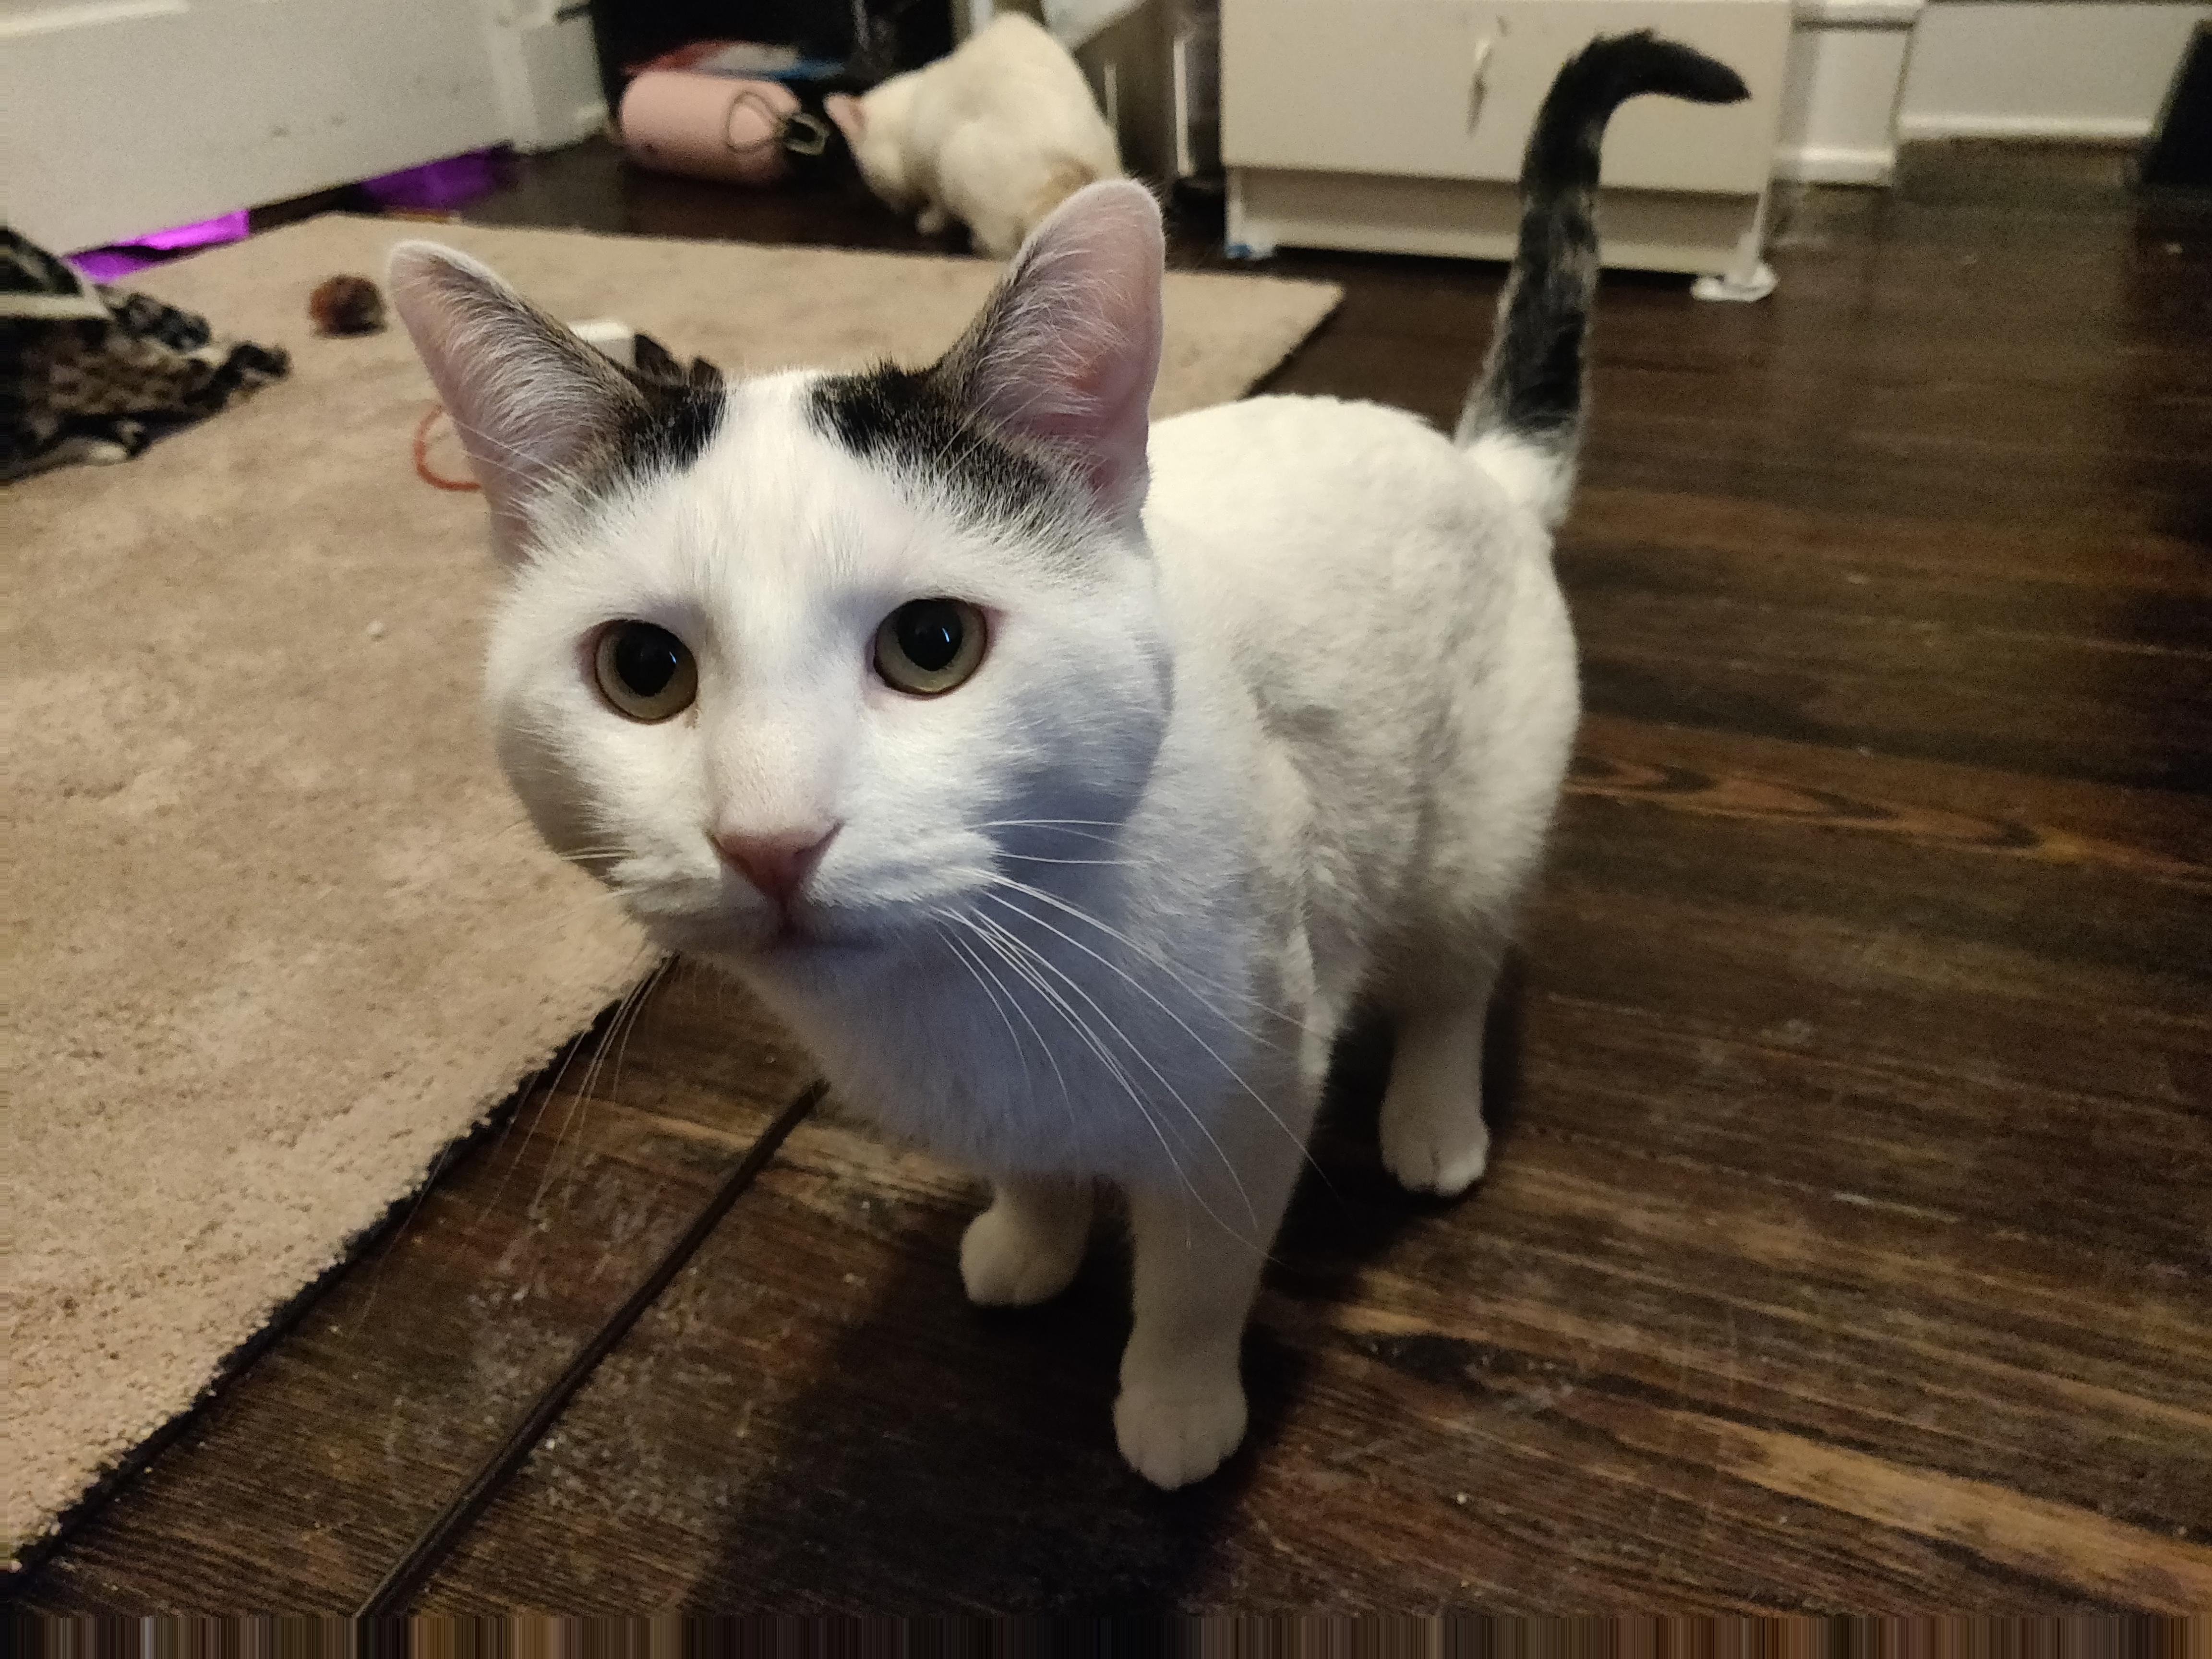cat: (366, 33, 1763, 1491)
